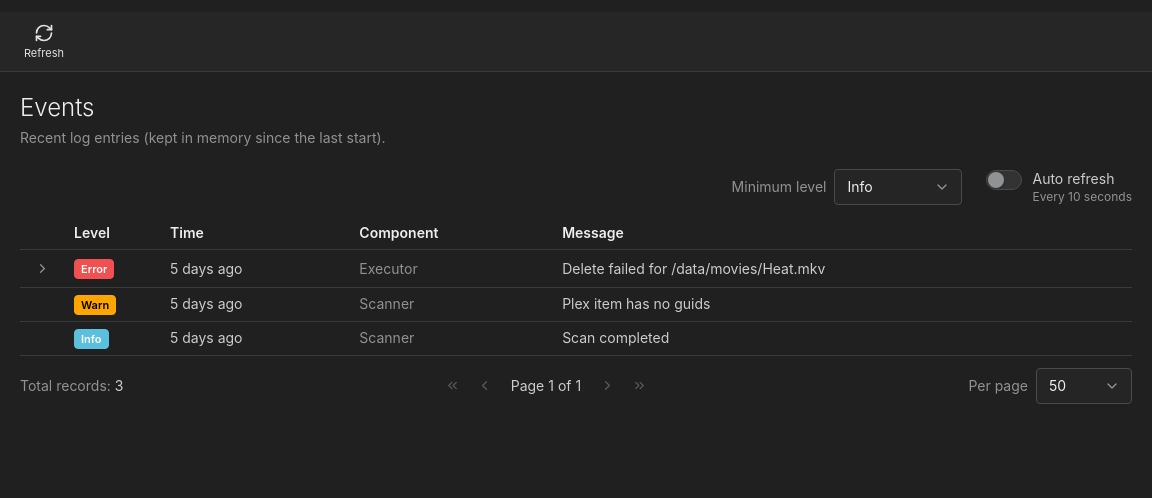
Scenario: <EventsPage> › expands exceptions
This screenshot has width=1152, height=498.
Expected: the text "Scan completed" is shown, x1=562 y1=329 x2=669 y2=346
What coordinates should you click on to do the following:
click the button named "Show exception"
I would click on:
 (42, 268)
Its box is x1=30 y1=256 x2=54 y2=280.
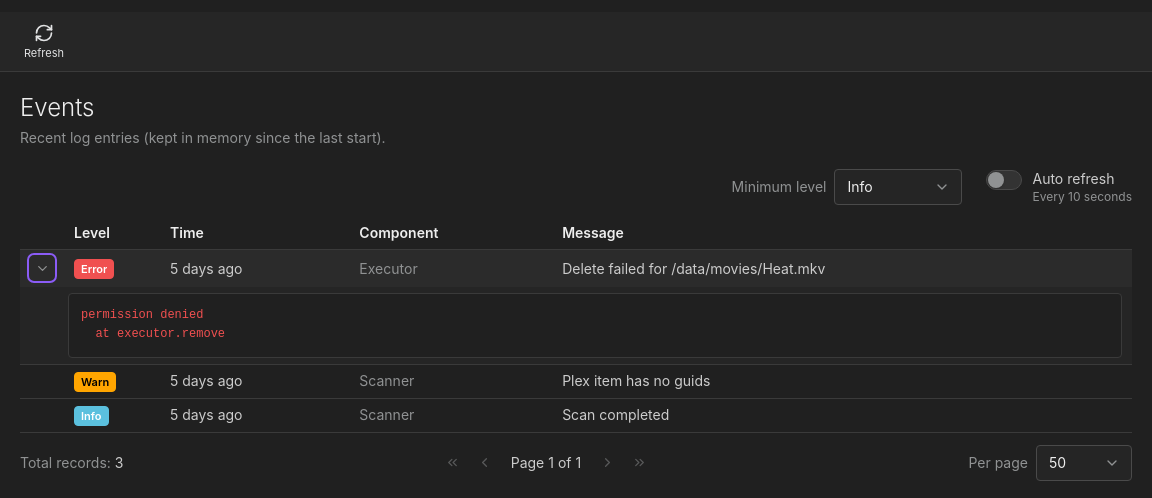
Expected: the text "permission denied at executor.remove" is shown, x1=68 y1=293 x2=1122 y2=358
Expected: the button named "Hide exception" is expanded, x1=30 y1=256 x2=54 y2=280
